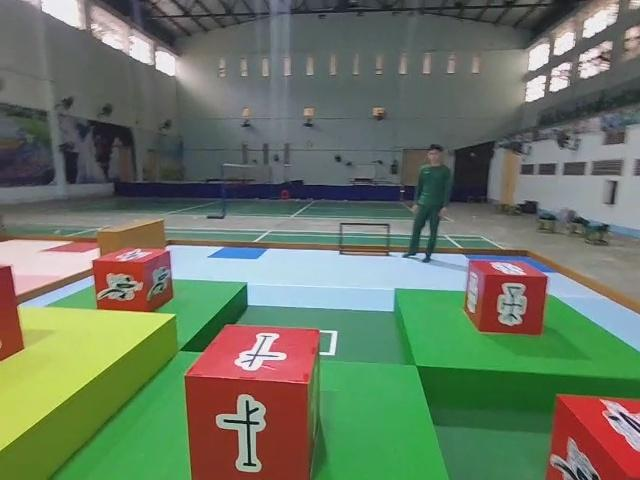R1: (548, 395, 640, 480), (91, 248, 175, 315)
R2 Real: (184, 322, 324, 480), (463, 259, 547, 338)
